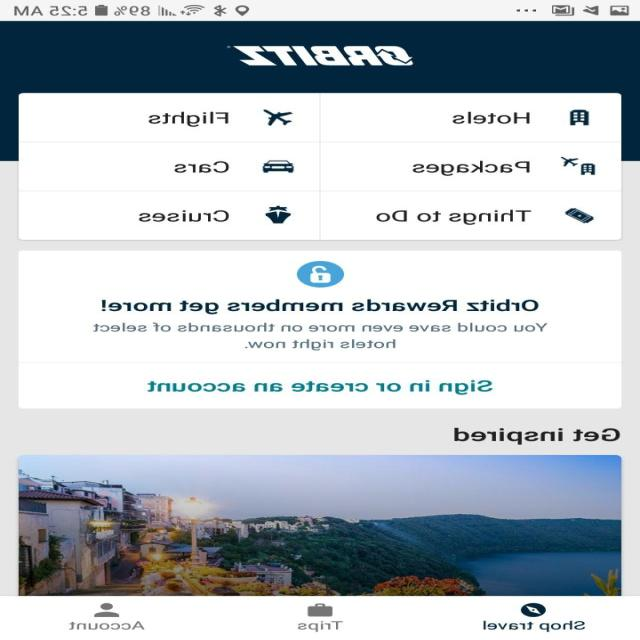Icon: (297, 260, 345, 288), (564, 206, 596, 224), (521, 602, 547, 617), (94, 602, 120, 617), (307, 603, 333, 616)
Image: (20, 455, 622, 595), (226, 46, 414, 66), (560, 156, 596, 175), (264, 205, 292, 224), (263, 109, 294, 126), (262, 160, 296, 173), (568, 109, 590, 126)
Text: (94, 322, 548, 351), (102, 298, 540, 314), (147, 379, 493, 395), (454, 427, 620, 445), (376, 208, 532, 226), (412, 160, 530, 176), (148, 110, 230, 127), (483, 619, 585, 632), (138, 209, 230, 222), (452, 111, 530, 125), (69, 620, 146, 630), (174, 160, 230, 173), (298, 620, 344, 632)
